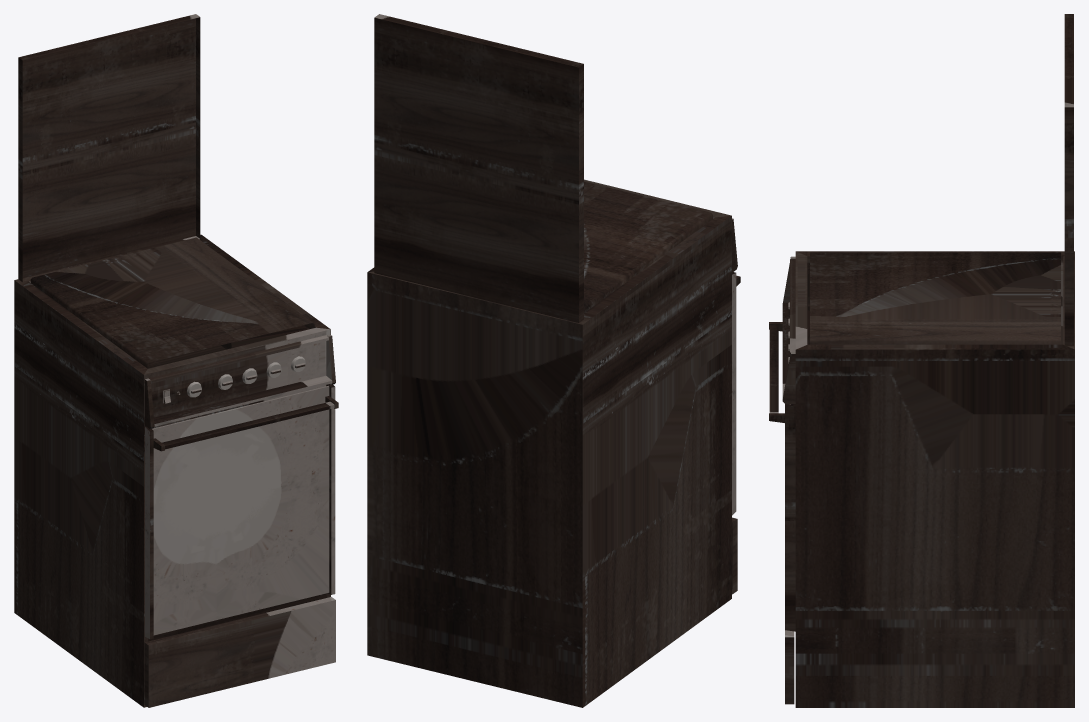
The picture shows the model from 3 angles, left to right: view 1: azimuth 30°, elevation 25°; view 2: azimuth 150°, elevation 25°; view 3: azimuth 270°, elevation 25°; orthographic projection. The views are drawn at different scales.
Parts seen in each view (by area): view 1: body__0, cap__0, door__0, Object001__0; view 2: body__0, cap__0, Object001__0, door__0; view 3: body__0, Object001__0, door__0, cap__0.
Part boxes in pixels (x1,y1,x2,y2): body__0: (14,234,335,707); cap__0: (18,14,200,282); door__0: (145,384,338,638); Object001__0: (30,237,314,367); body__0: (367,179,737,707); cap__0: (374,14,583,322); Object001__0: (584,181,712,312); door__0: (732,272,740,515); body__0: (782,251,1074,707); Object001__0: (808,252,1062,344); door__0: (769,322,795,631); cap__0: (1064,14,1073,346).
Bounding box in the file's own units: 0.5 × 1.42 × 0.6574.
